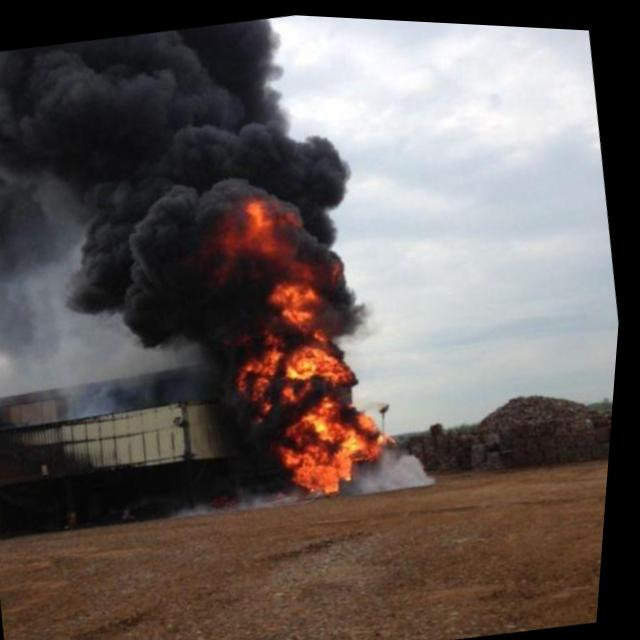fire: (181, 157, 432, 517)
